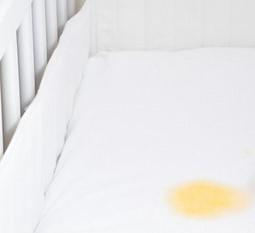gun: (165, 175, 247, 223)
